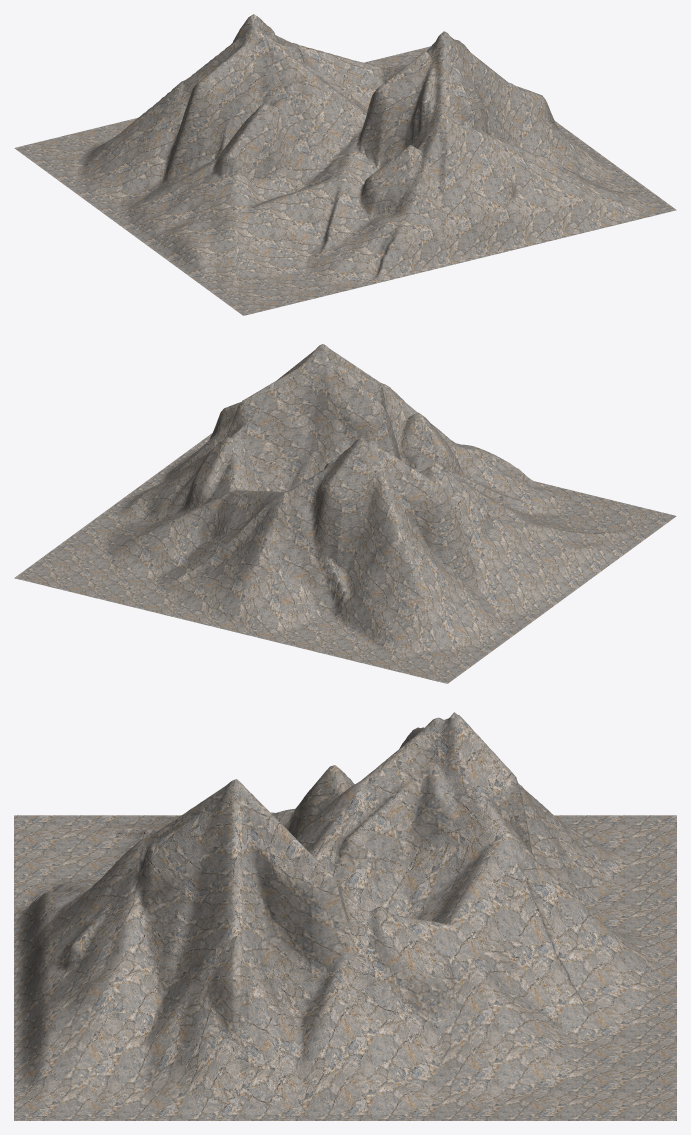
Rendered from corealm_mountain_2.glb.
3 renders of one model, top to bottom at view 1: azimuth 30°, elevation 25°; view 2: azimuth 150°, elevation 25°; view 3: azimuth 270°, elevation 25°, orthographic. The views are drawn at different scales.
Parts seen in each view (by area): view 1: corealm_mountain_2; view 2: corealm_mountain_2; view 3: corealm_mountain_2.
Part boxes in pixels (x1=…): corealm_mountain_2: x1=14, y1=14, x2=676, y2=315; corealm_mountain_2: x1=14, y1=344, x2=676, y2=683; corealm_mountain_2: x1=14, y1=712, x2=676, y2=1120.
Size of the model in its own units: 480 by 170 by 440.
Materials: 1 (1 with a texture image).
